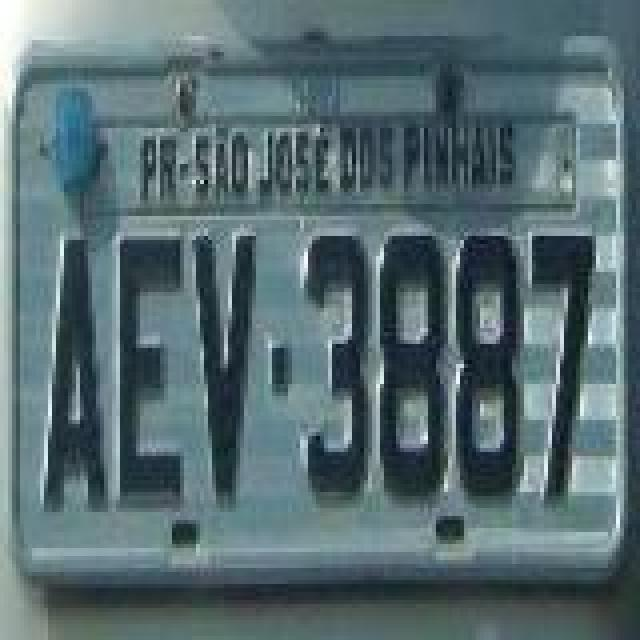3: (304, 234, 368, 502)
7: (528, 230, 592, 506)
8: (374, 232, 442, 504), (456, 232, 520, 504)
A: (38, 238, 106, 514)
E: (118, 234, 186, 502)
V: (192, 232, 256, 504)
